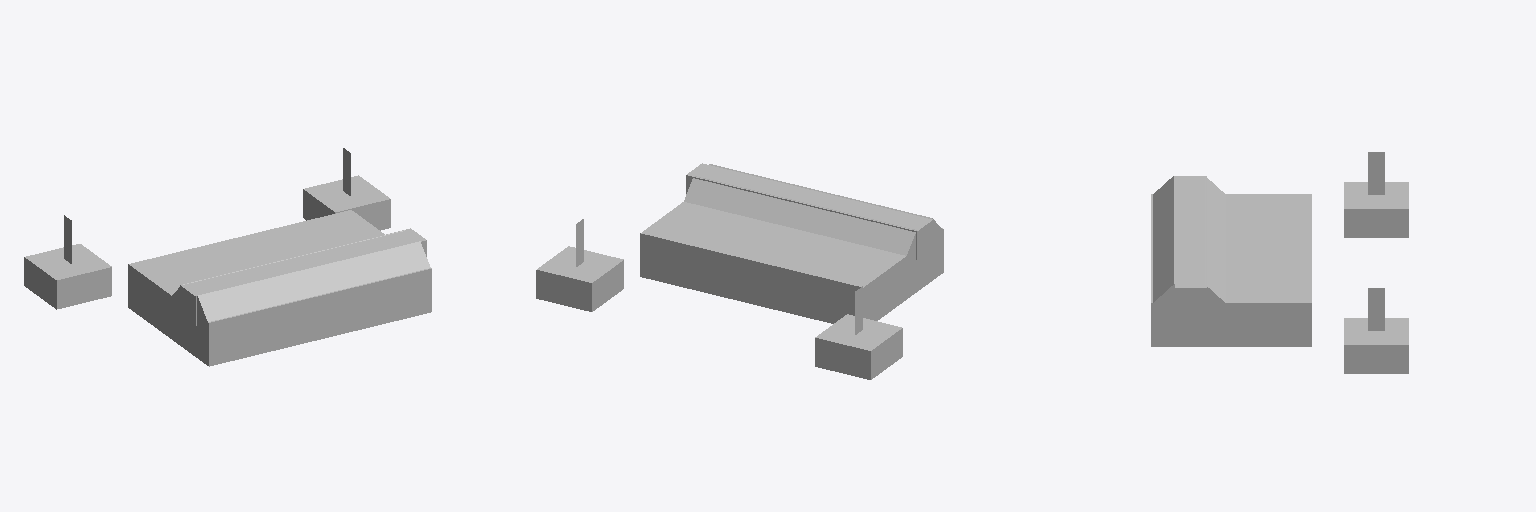
The model's file is atari.obj.
3 views of the same model, side by side, from view 1: azimuth 30°, elevation 25°; view 2: azimuth 150°, elevation 25°; view 3: azimuth 270°, elevation 25° (orthographic).
Visible parts, largest first — view 1: bone, bone3, bone2; view 2: bone, bone3, bone2; view 3: bone, bone3, bone2.
Part boxes in pixels (x1,y1,x2,y2): bone: (128, 210, 431, 366); bone3: (24, 215, 111, 309); bone2: (303, 148, 390, 230); bone: (640, 163, 943, 323); bone3: (815, 286, 902, 379); bone2: (536, 219, 623, 311); bone: (1151, 176, 1311, 346); bone3: (1344, 152, 1408, 237); bone2: (1344, 288, 1408, 373).
Size of the model in its own units: 1.5 by 0.3125 by 1.